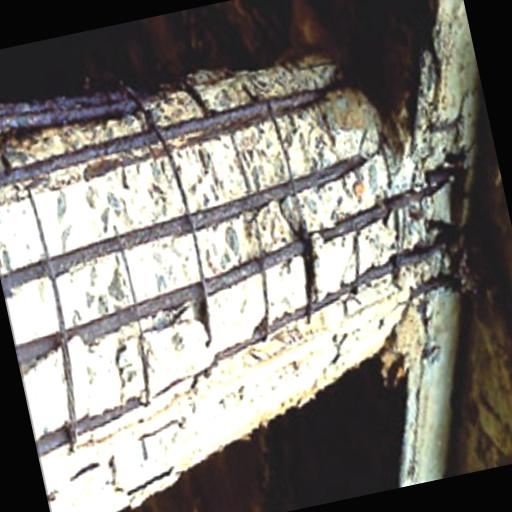spalling: (0, 48, 462, 496)
